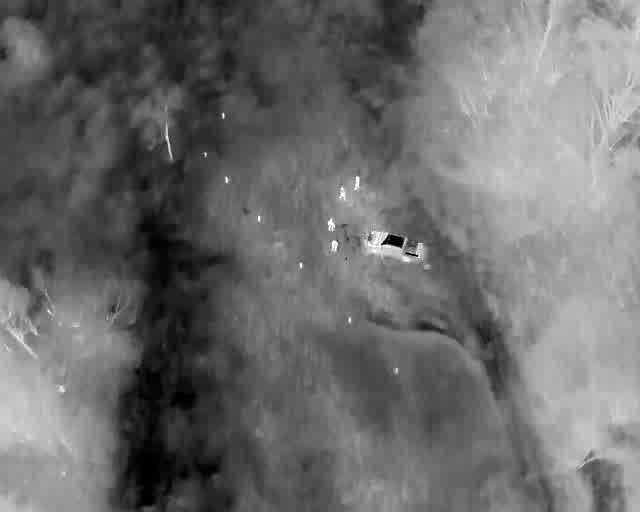car: (366, 230, 424, 265)
person: (327, 217, 336, 232), (338, 185, 346, 200), (331, 239, 340, 252), (353, 175, 360, 191)
